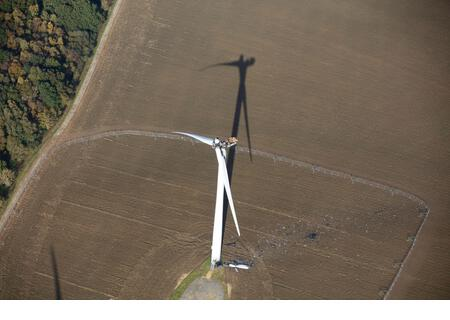faulty: (167, 125, 247, 246)
